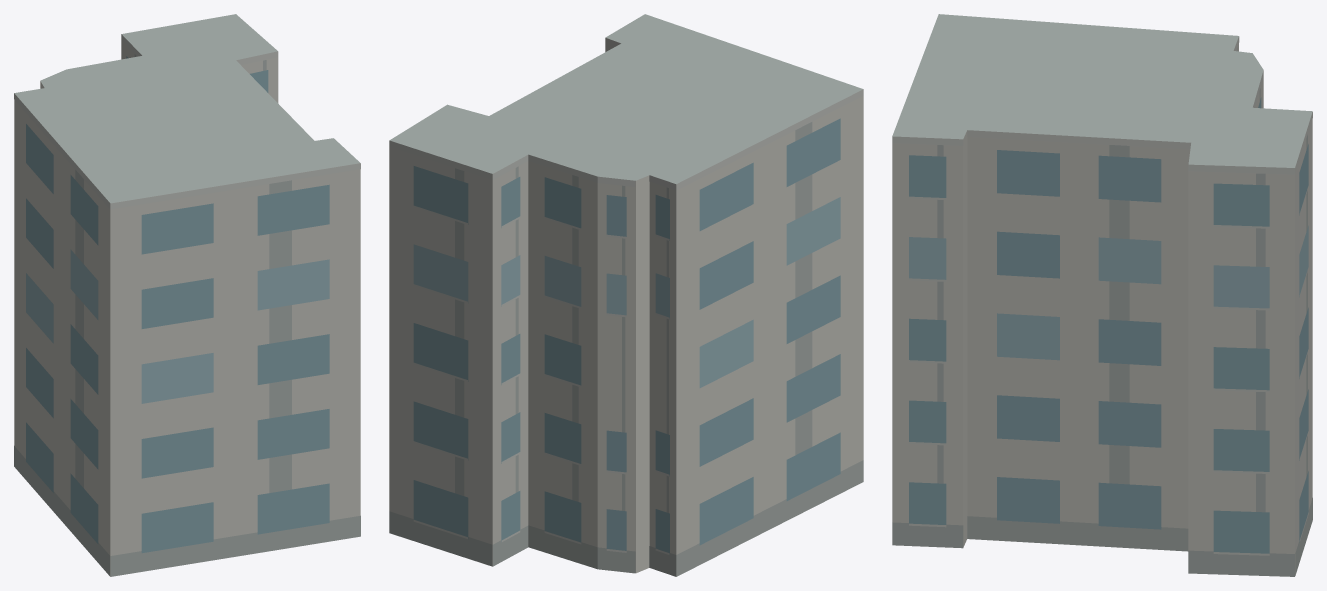
File: survey-upis-32899039.glb
3 renders of one model, left to right at view 1: azimuth 30°, elevation 25°; view 2: azimuth 150°, elevation 25°; view 3: azimuth 270°, elevation 25°, orthographic. The views are drawn at different scales.
Parts seen in each view (by area): view 1: survey-upis-32899039.tmp; view 2: survey-upis-32899039.tmp; view 3: survey-upis-32899039.tmp.
Boxes of the visible parts, left/top/right/bottom form: survey-upis-32899039.tmp: left=14, top=14, right=360, bottom=576; survey-upis-32899039.tmp: left=389, top=14, right=863, bottom=576; survey-upis-32899039.tmp: left=892, top=14, right=1312, bottom=576.
Size of the model in its own units: 12.05 by 14.9 by 13.9.
